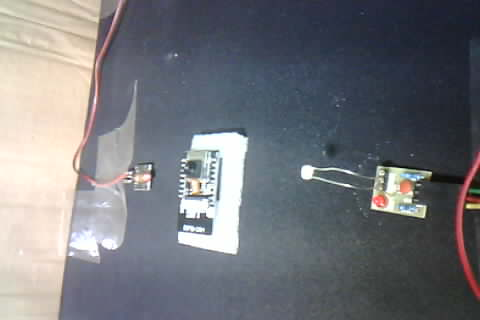esp32: (174, 131, 250, 256)
